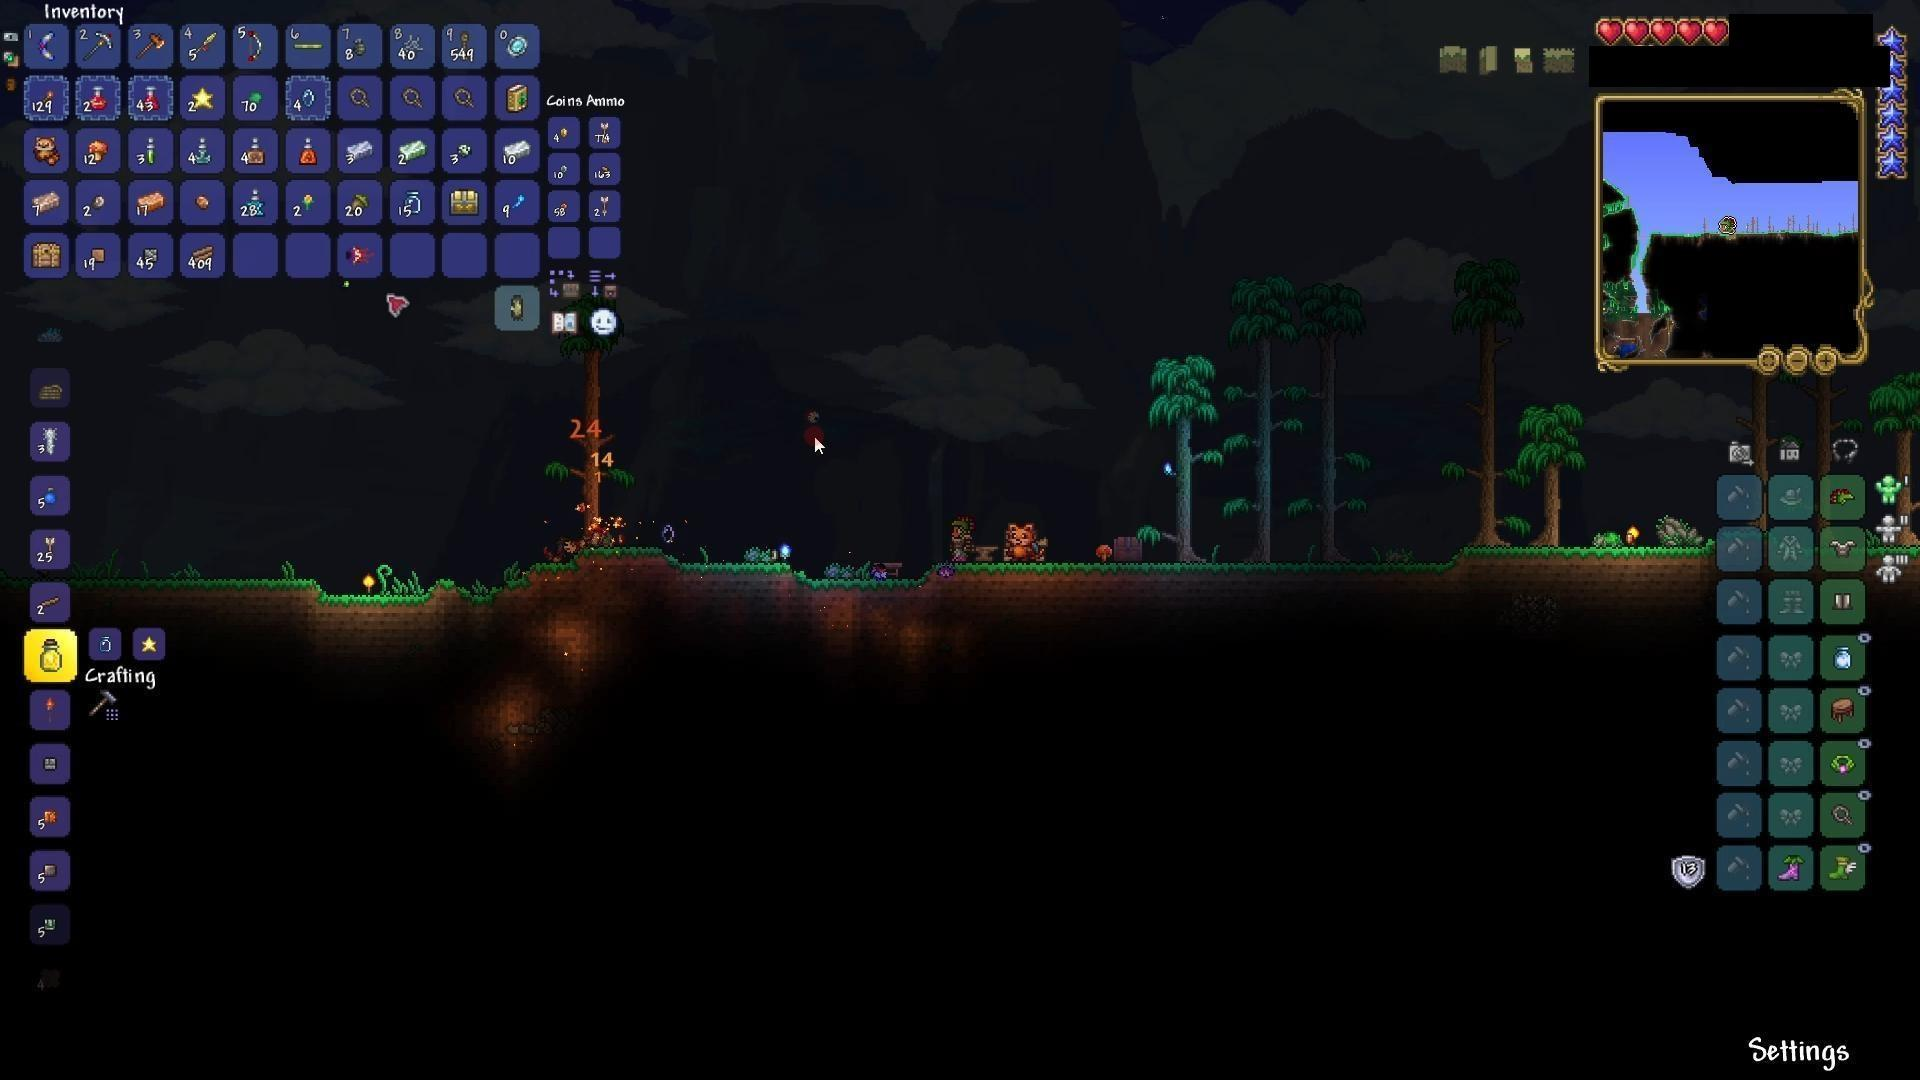dirt: (447, 543, 795, 612), (109, 564, 447, 625), (1440, 542, 1705, 608), (934, 559, 1224, 617), (785, 563, 945, 608)
heart: (1702, 17, 1733, 51), (1593, 16, 1626, 46), (1676, 15, 1704, 50), (1650, 16, 1676, 49), (1625, 15, 1651, 44)
tree: (1228, 251, 1300, 555), (1149, 343, 1229, 570), (1523, 396, 1573, 555)
